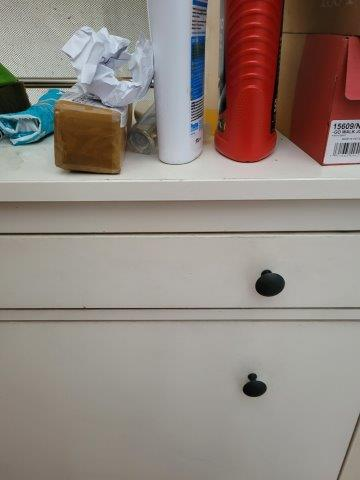kertas: (67, 30, 155, 103)
